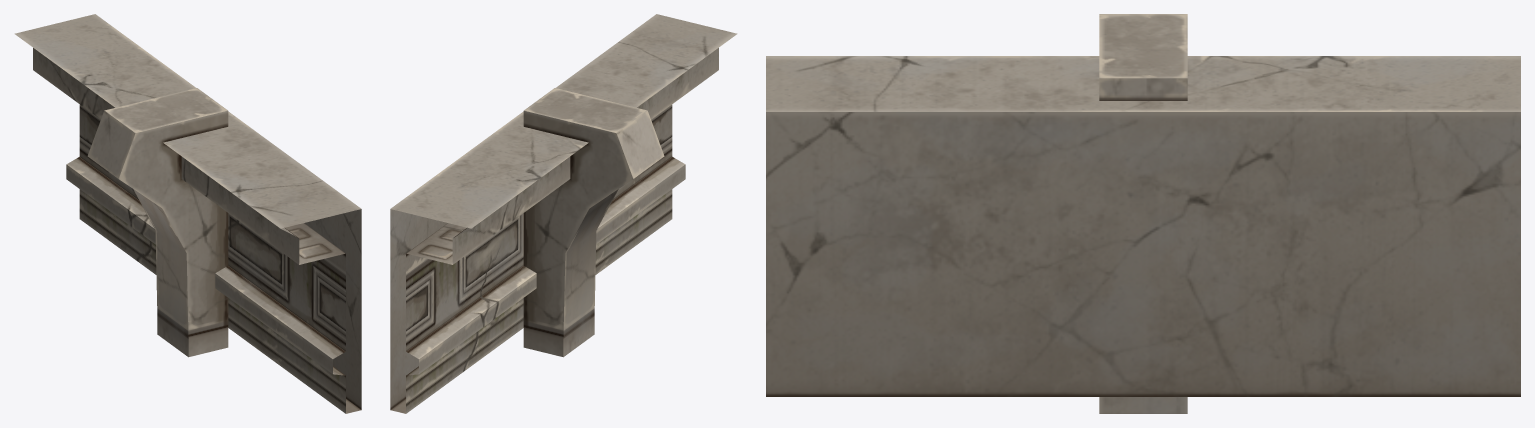
File: cornice03_mid.fbx
3 renders of one model, left to right at view 1: azimuth 30°, elevation 25°; view 2: azimuth 150°, elevation 25°; view 3: azimuth 270°, elevation 25°, orthographic. The views are drawn at different scales.
Parts seen in each view (by area): view 1: cornice03_mid; view 2: cornice03_mid; view 3: cornice03_mid.
Part boxes in pixels (x1,y1,x2,y2): cornice03_mid: (14, 14, 361, 413); cornice03_mid: (390, 14, 737, 413); cornice03_mid: (766, 14, 1520, 413).
Bounding box in the file's own units: 81.64 × 147 × 300.
